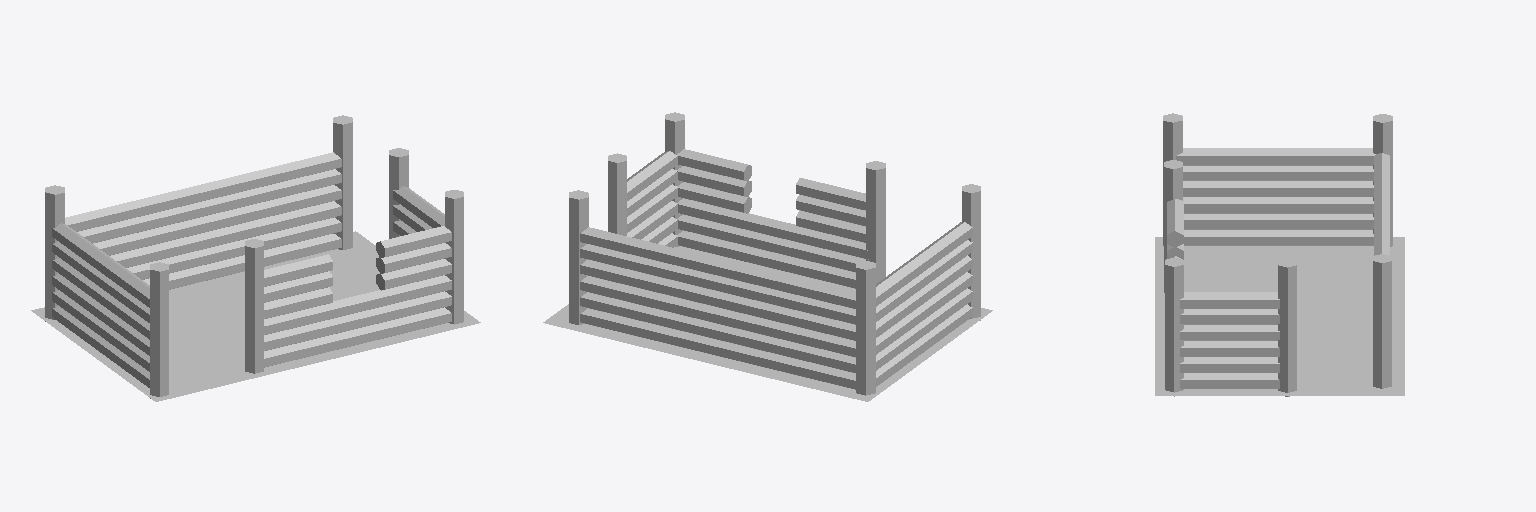
Rendered from HauseSmallRuin.obj.
The picture shows the model from 3 angles: view 1: azimuth 30°, elevation 25°; view 2: azimuth 150°, elevation 25°; view 3: azimuth 270°, elevation 25°; orthographic projection.
Visible parts, largest first — view 1: Plane.001; view 2: Plane.001; view 3: Plane.001.
Boxes of the visible parts, box(x1,y1,x2,y2) form: Plane.001: box(31, 115, 480, 401); Plane.001: box(543, 112, 992, 401); Plane.001: box(1155, 113, 1404, 396).
Size of the model in its own units: 6 by 2.28 by 4.